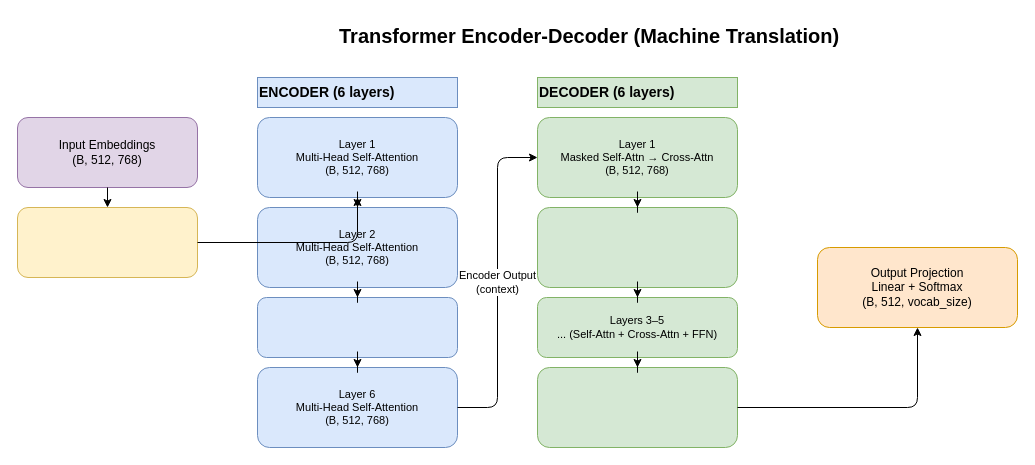
Image size: 1035x465. Some labels were removed from this diagram. The shapes that lost their labels are listed below. From the top down, each one's centre as x and y in pixels, then its label:
At point 107,242: "Positional Encoding + Input Embeddings".
At point 637,247: "Layer 2 Masked Self-Attn → Cross-Attn (B, 512, 768)".
At point 357,327: "Layers 3–5 ... (Self-Attention + FFN)".
At point 637,407: "Layer 6 Masked Self-Attn → Cross-Attn (B, 512, 768)".
